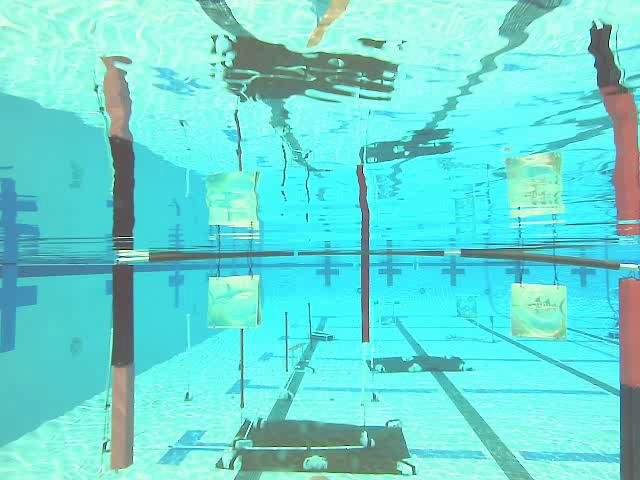black_poster: (241, 330, 244, 408), (285, 312, 288, 372)
divider: (360, 254, 370, 343), (186, 313, 193, 399)
left_gate_poster: (111, 267, 134, 468)
right_gate_poster: (617, 277, 640, 480)
shark: (207, 275, 262, 327)
swordfish: (511, 284, 567, 339)
